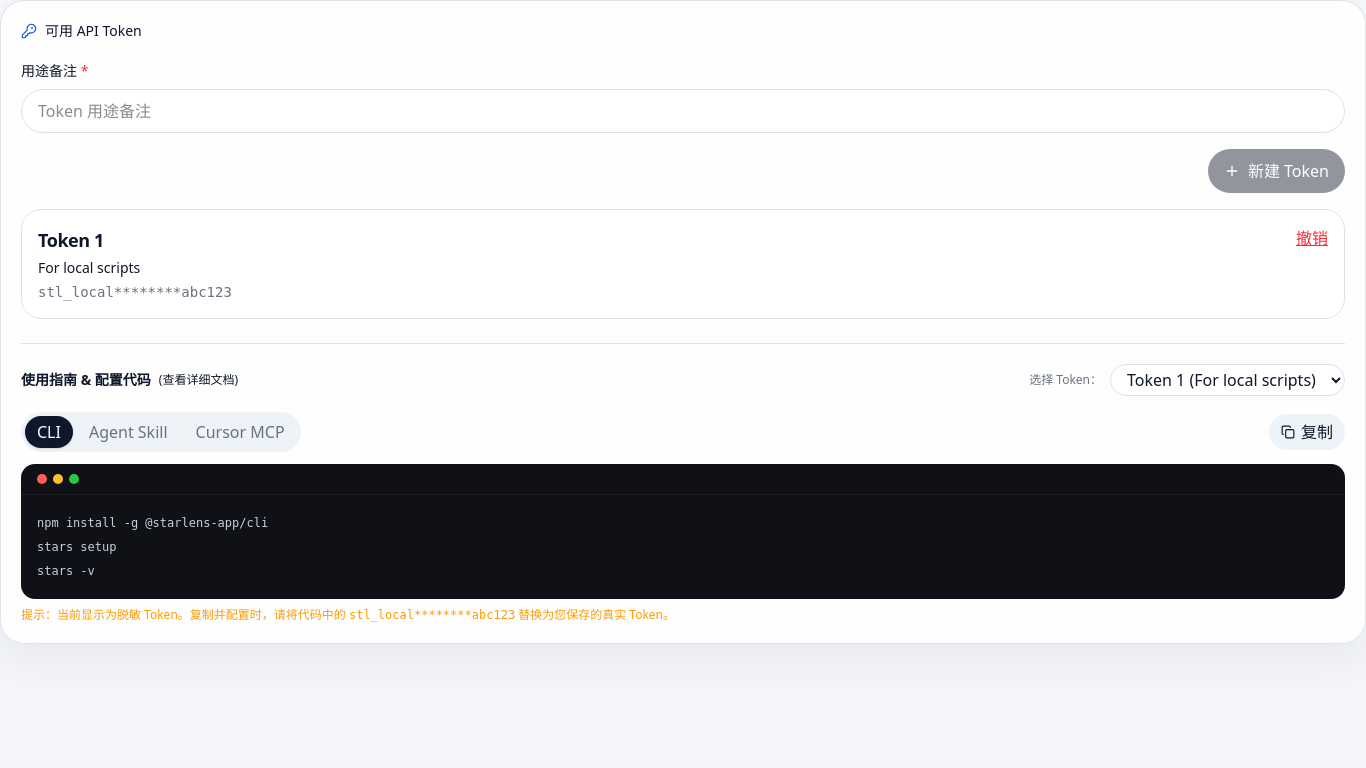
Test: tokens settings interactions › refreshes list after delete
The width and height of the screenshot is (1366, 768).
Click the button "撤销" at (1312, 238), box x1=1296 y1=226 x2=1328 y2=250
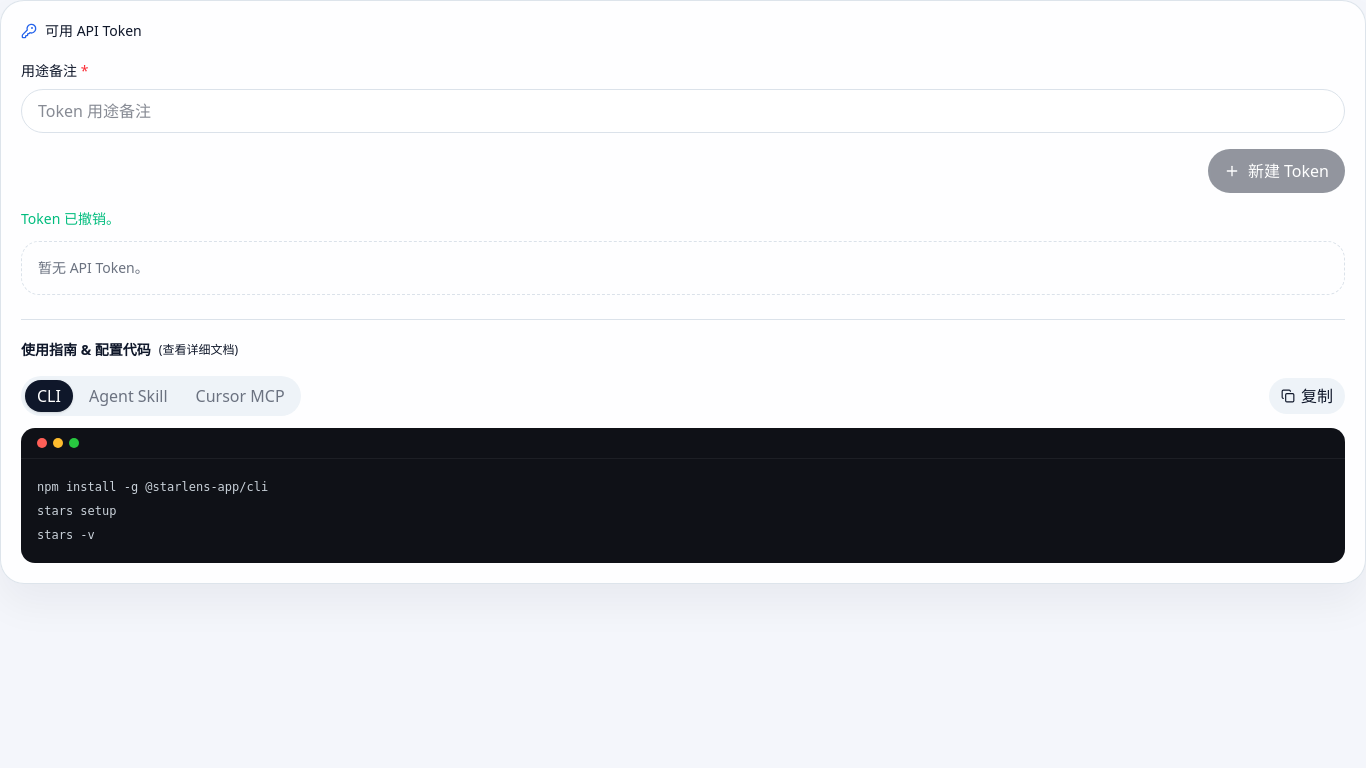
Result: the text "暂无 API Token" is shown at x1=38 y1=258 x2=149 y2=277
